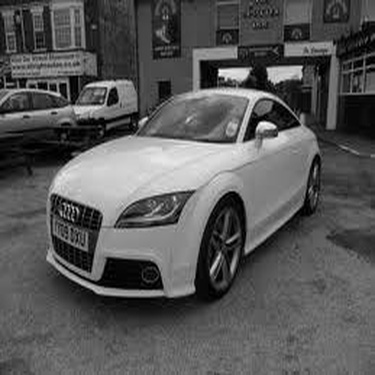car: (35, 79, 327, 319), (1, 97, 82, 155)
